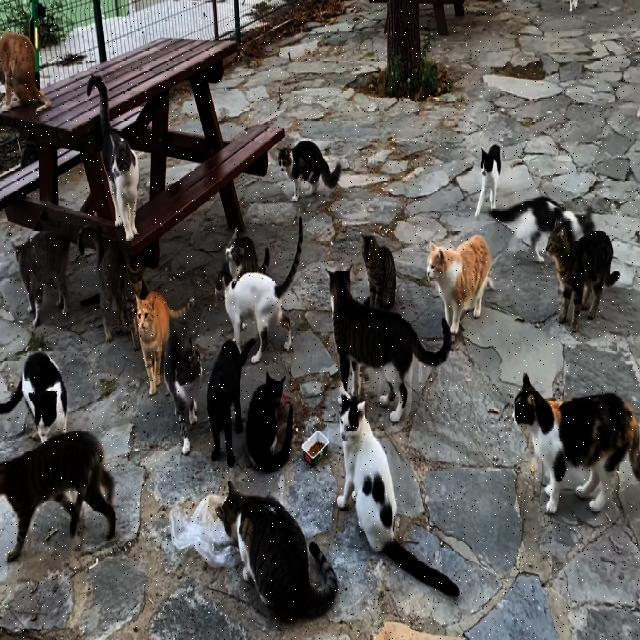cat: (336, 391, 459, 596), (328, 269, 451, 421), (514, 373, 640, 513), (216, 482, 336, 621), (0, 431, 115, 561), (215, 218, 302, 364), (86, 76, 139, 240), (79, 224, 148, 349), (546, 220, 619, 330), (490, 196, 594, 262), (426, 236, 492, 337), (208, 338, 255, 466), (136, 291, 193, 394), (0, 353, 66, 441), (11, 231, 69, 326), (246, 371, 292, 471), (164, 333, 202, 454), (0, 33, 50, 110), (279, 140, 341, 201), (362, 236, 396, 309), (225, 229, 270, 280), (475, 144, 501, 217)
